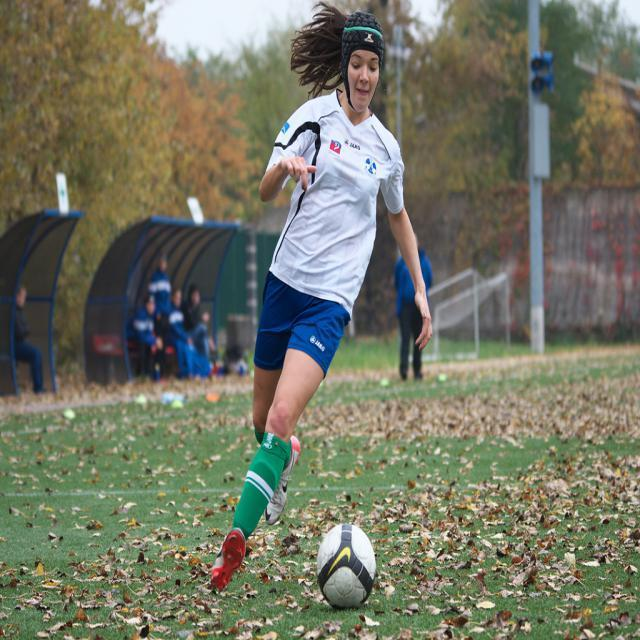football: (308, 522, 395, 613)
